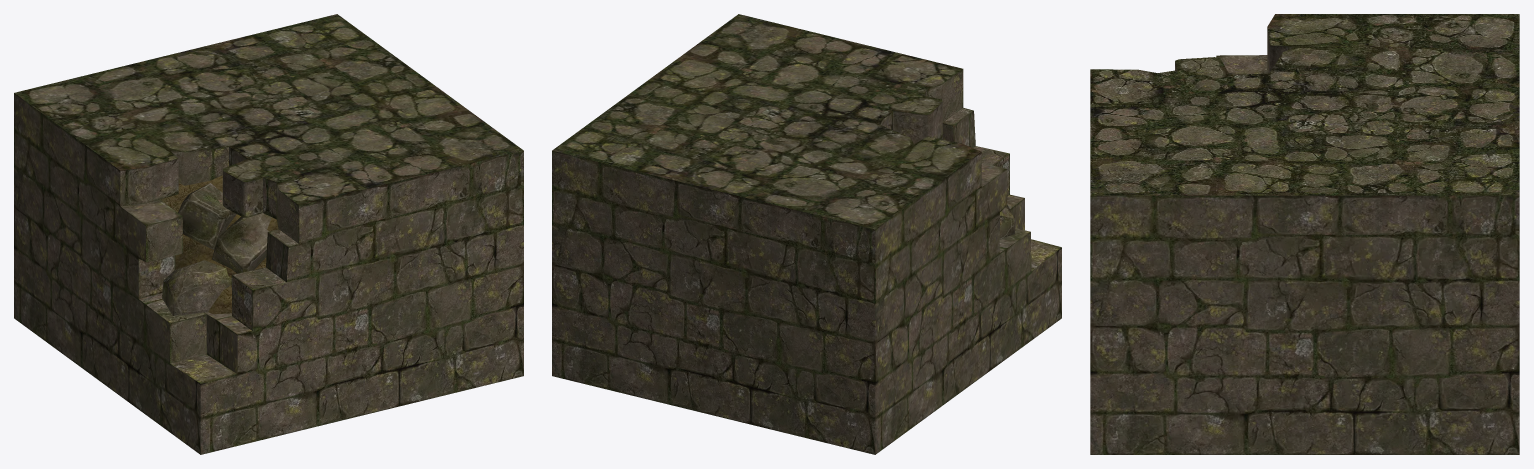
The model's file is Base_Broken_Corner_01-transformed.glb.
3 views of the same model, side by side, from view 1: azimuth 30°, elevation 25°; view 2: azimuth 150°, elevation 25°; view 3: azimuth 270°, elevation 25° (orthographic). The views are drawn at different scales.
Visible parts, largest first — view 1: default; view 2: default; view 3: default.
Part boxes in pixels (left/top/right/bottom): default: left=14, top=14, right=523, bottom=454; default: left=552, top=14, right=1061, bottom=454; default: left=1090, top=14, right=1519, bottom=454.
Bounding box in the file's own units: 6 × 4 × 6.
Materials: 3 (3 with a texture image).
